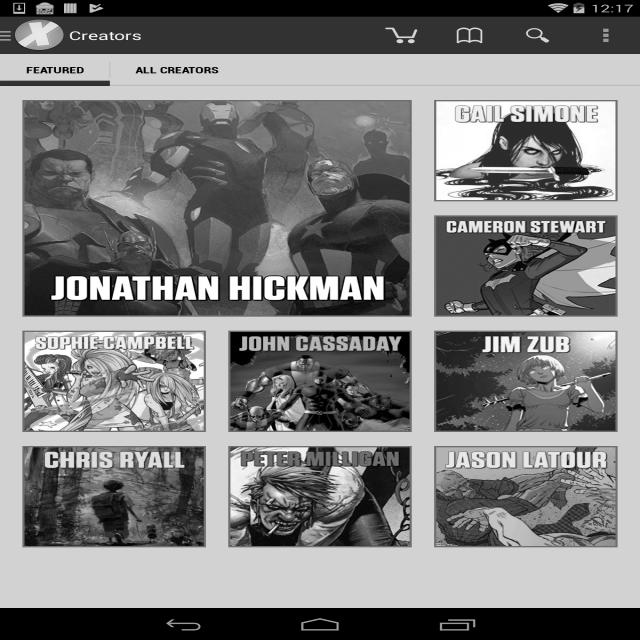ImageButton: (571, 16, 640, 54)
ImageView: (22, 100, 412, 317), (434, 215, 618, 317), (434, 100, 618, 201), (22, 331, 206, 432), (228, 331, 412, 432), (434, 331, 618, 432), (22, 446, 206, 547), (228, 446, 412, 547), (434, 446, 618, 547), (367, 17, 435, 54), (14, 19, 64, 52), (0, 30, 17, 41)
TextView: (110, 54, 245, 86), (0, 54, 110, 86), (435, 17, 504, 54), (503, 17, 572, 54), (69, 27, 142, 43)
